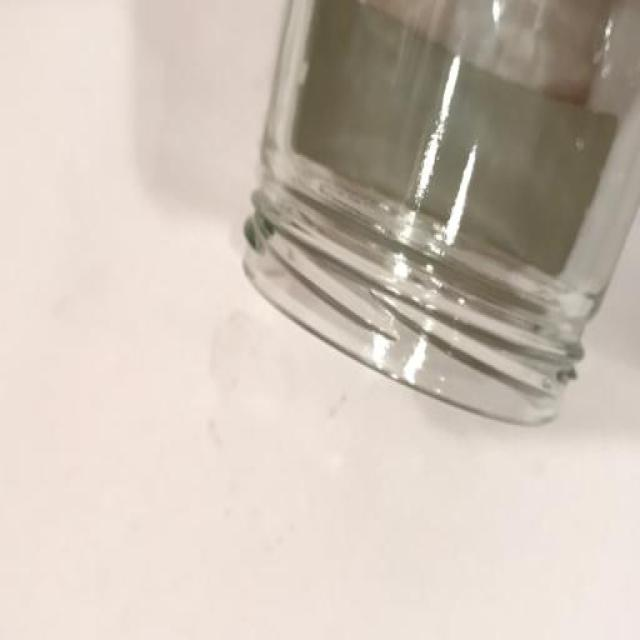glass: (241, 2, 640, 430)
